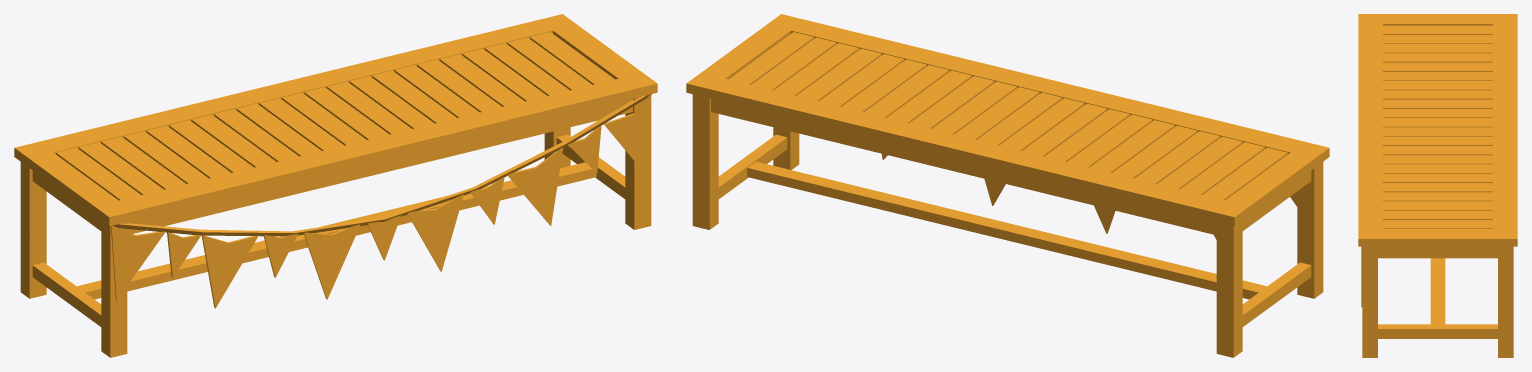
File: SM_Bench_Garden_Long_4july.fbx
3 renders of one model, left to right at view 1: azimuth 30°, elevation 25°; view 2: azimuth 150°, elevation 25°; view 3: azimuth 270°, elevation 25°, orthographic. The views are drawn at different scales.
Visible parts, largest first — view 1: bench-garden-long-4july; view 2: bench-garden-long-4july; view 3: bench-garden-long-4july.
Part boxes in pixels (x1=…): bench-garden-long-4july: x1=14, y1=14, x2=657, y2=357; bench-garden-long-4july: x1=686, y1=14, x2=1329, y2=357; bench-garden-long-4july: x1=1358, y1=14, x2=1517, y2=357.
Bounding box in the file's own units: 2 × 0.5 × 0.6.
